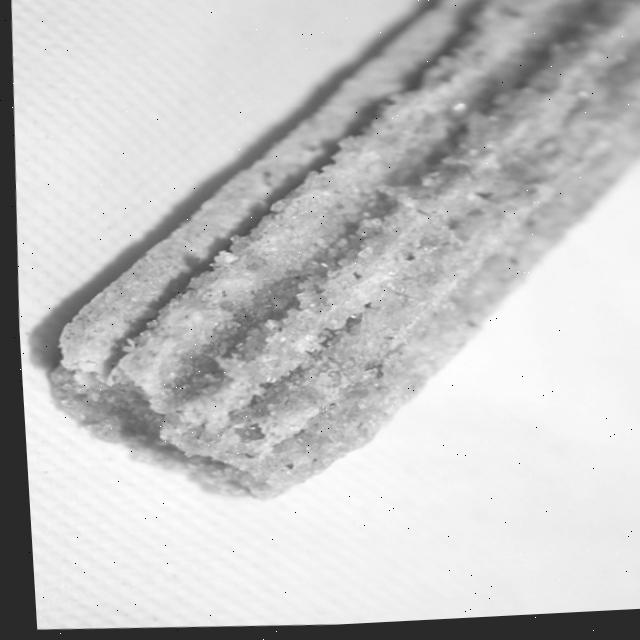炸货点心: (23, 0, 640, 562)
